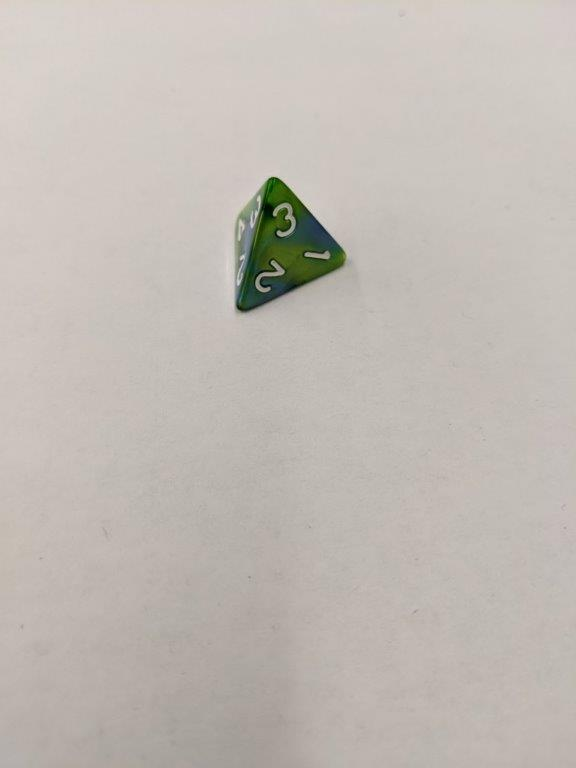d4-3: (231, 176, 349, 314)
